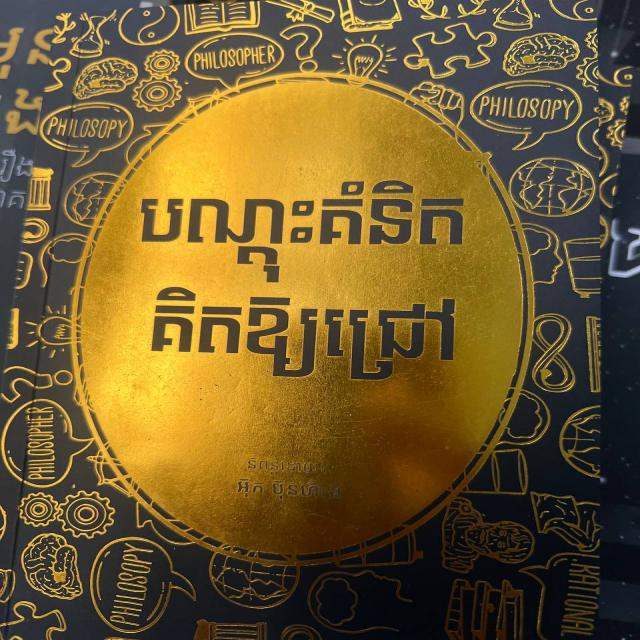Yolov11_80vkh: (132, 169, 477, 286), (135, 285, 471, 392)
